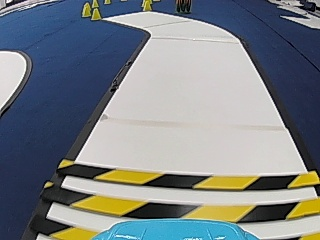bump: (64, 166, 299, 234)
